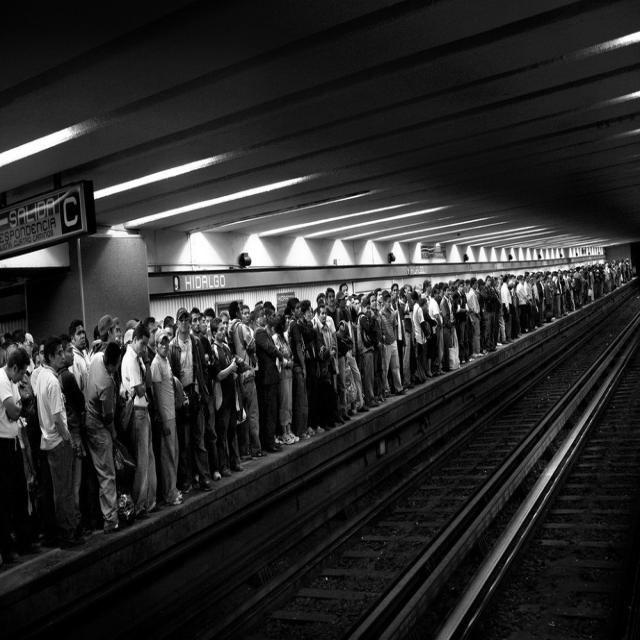body: (165, 304, 215, 496), (0, 345, 43, 564), (119, 321, 165, 522), (83, 339, 126, 536), (67, 306, 179, 380), (56, 334, 94, 537), (226, 299, 270, 462), (148, 327, 186, 507), (188, 306, 223, 484), (56, 332, 87, 532), (209, 316, 245, 478), (508, 254, 574, 338), (252, 302, 286, 456), (0, 320, 51, 401), (271, 311, 301, 446), (297, 298, 326, 436), (323, 285, 350, 426), (286, 296, 312, 442), (312, 302, 341, 430), (574, 254, 636, 310), (354, 294, 382, 410), (377, 292, 407, 400), (399, 301, 429, 390), (367, 291, 387, 404), (438, 282, 462, 373), (388, 282, 408, 386), (240, 296, 292, 334), (451, 278, 472, 365), (335, 278, 390, 310), (428, 285, 446, 378), (487, 268, 508, 345), (466, 276, 485, 359), (192, 306, 234, 343), (448, 273, 486, 305), (482, 274, 497, 354), (398, 278, 444, 302), (500, 274, 514, 343), (340, 369, 361, 413), (310, 285, 328, 327), (477, 304, 488, 358)
